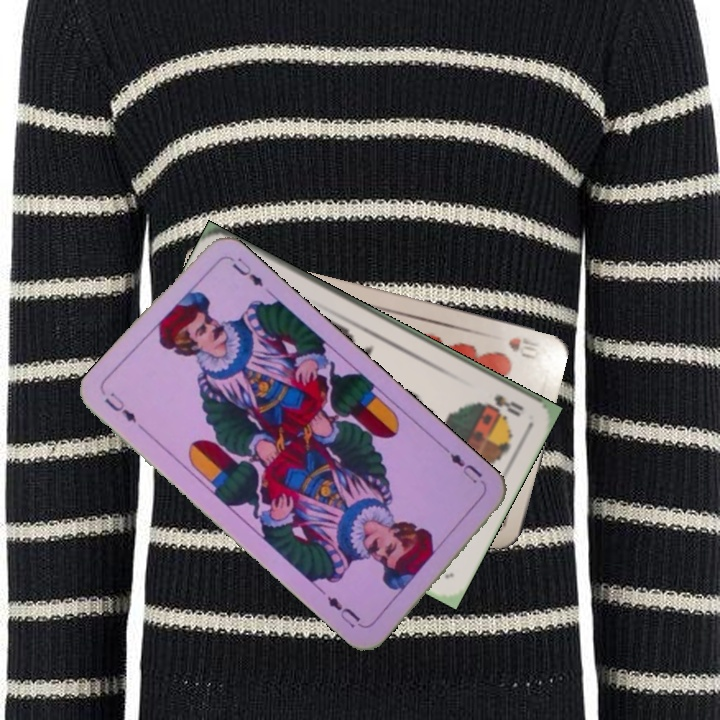EU: (441, 444, 489, 491), (100, 388, 149, 434)
H10: (504, 333, 543, 362)
SO: (481, 390, 527, 419)
